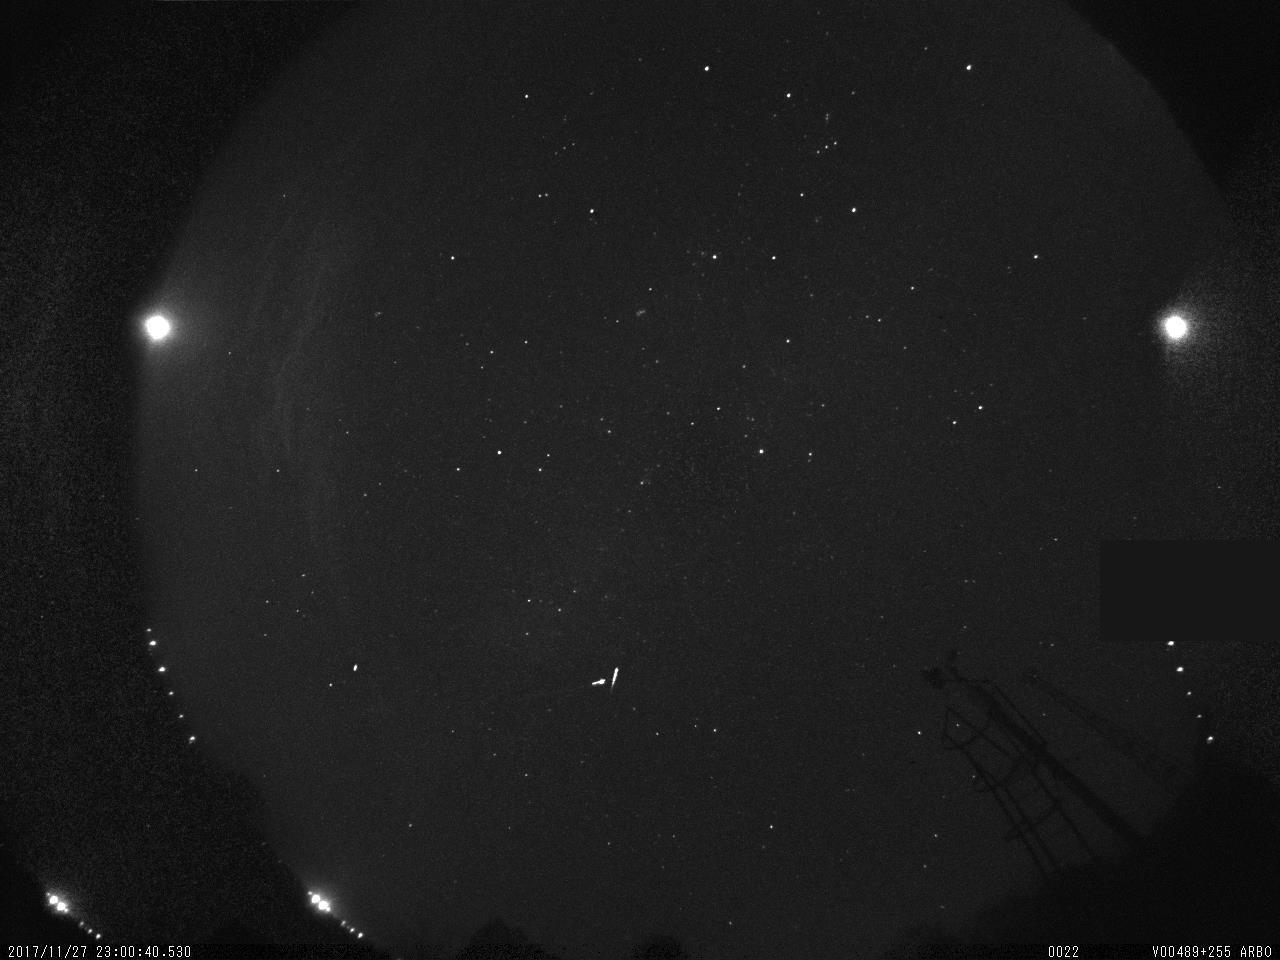meteor: (607, 653, 635, 698)
